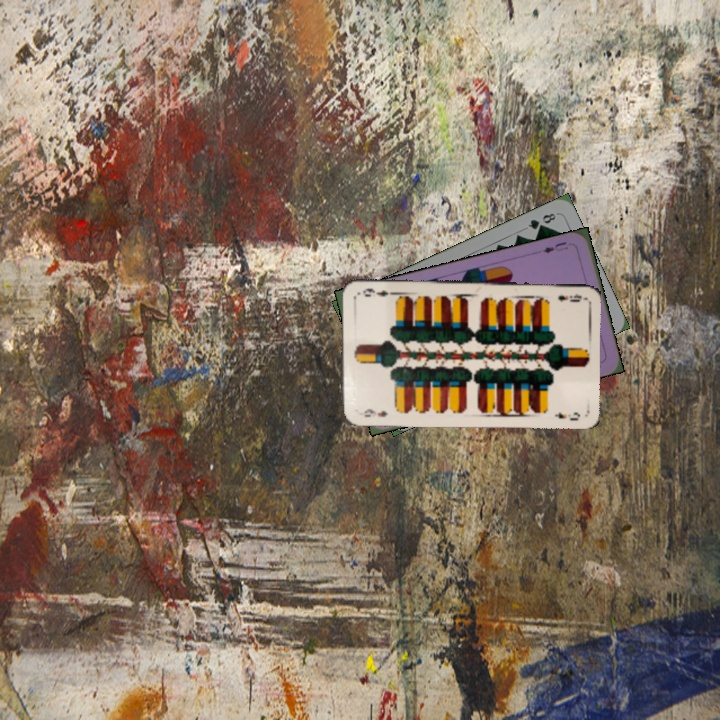E9: (360, 404, 390, 420), (554, 289, 584, 304)
EU: (539, 237, 570, 256)
G8: (524, 209, 558, 232)
